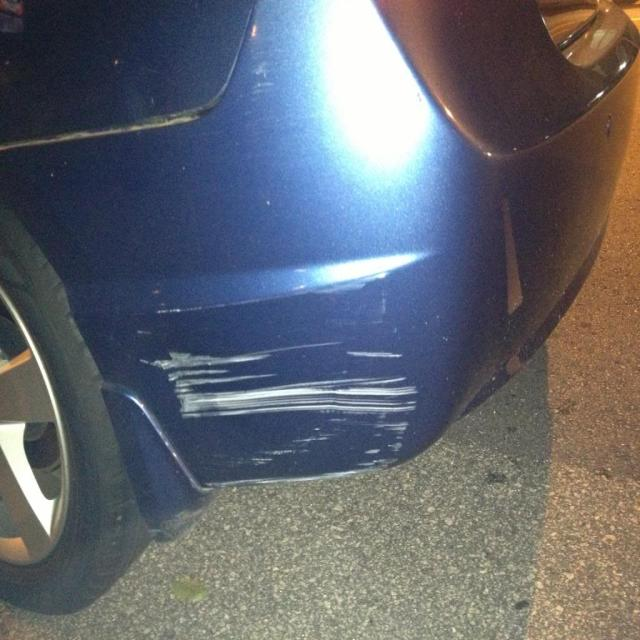Scratch: (151, 346, 422, 423)
